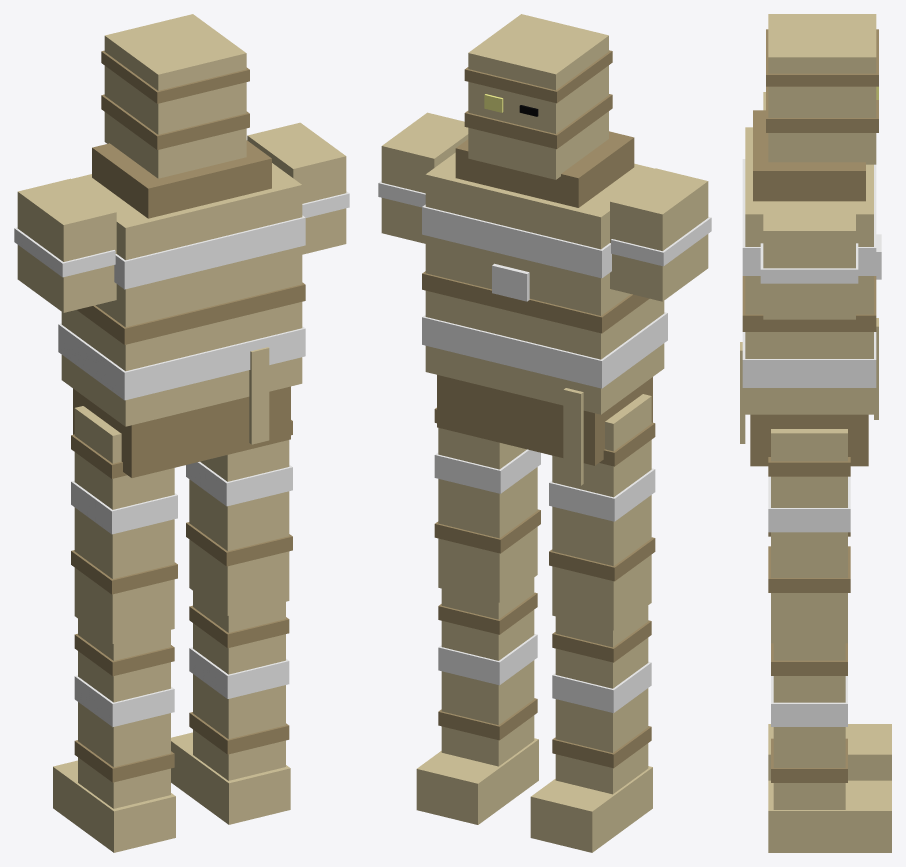
File: MUMMY.gltf
3 views of the same model, side by side, from view 1: azimuth 30°, elevation 25°; view 2: azimuth 150°, elevation 25°; view 3: azimuth 270°, elevation 25° (orthographic).
Parts seen in each view (by area): view 1: MUMMY; view 2: MUMMY; view 3: MUMMY.
Boxes of the visible parts, x1,y1,x2,y2 form: MUMMY: [14, 14, 349, 852]; MUMMY: [378, 14, 711, 852]; MUMMY: [740, 14, 891, 852].
Bounding box in the file's own units: 0.65 × 1.66 × 0.295.
